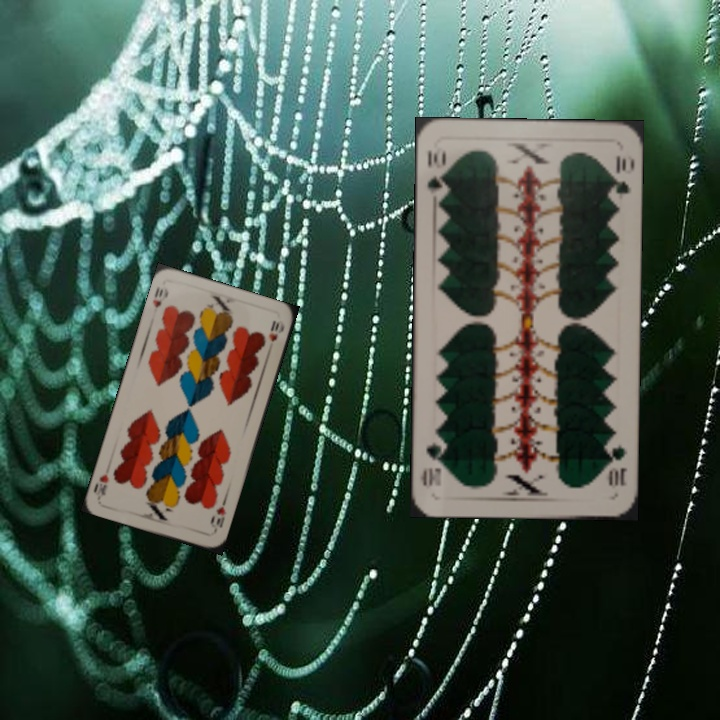G10: (603, 435, 630, 491), (423, 142, 449, 191)
H10: (206, 496, 229, 536), (149, 282, 171, 311)
